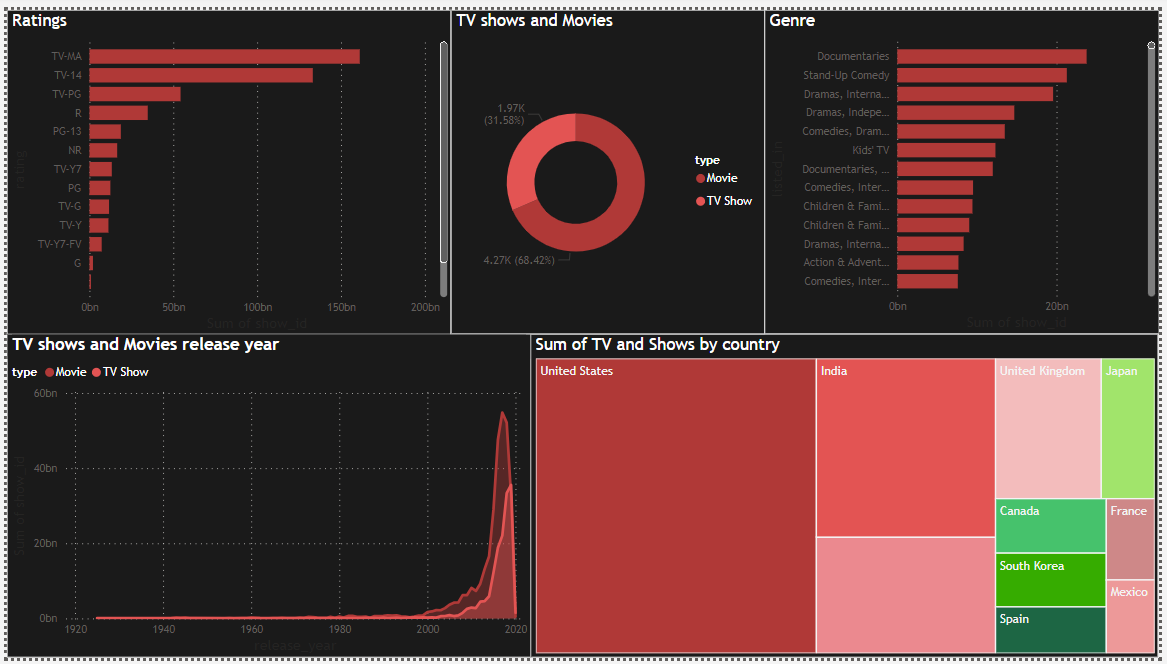

This screenshot's page, from the dashboard's own definition file:
{"tool":"powerbi","page":{"name":"Page 1","canvas":[1280,720],"ordinal":0},"visuals":[{"type":"barChart","title":"Ratings","fields":{"Y":["Sum(netflix_titles (1).show_id)"],"Category":["netflix_titles (1).rating"]},"box":[0,0,493.5,360.8],"z":0},{"type":"barChart","title":"Genre","fields":{"Y":["Sum(netflix_titles (1).show_id)"],"Category":["netflix_titles (1).listed_in"]},"box":[841.7,0,438.3,360],"z":1000},{"type":"areaChart","title":"TV shows and Movies release year","fields":{"Category":["netflix_titles (1).release_year"],"Y":["Sum(netflix_titles (1).show_id)"],"Series":["netflix_titles (1).type"]},"box":[0,360.8,582.5,359.2],"z":2000},{"type":"treemap","title":"Sum of TV and Shows by country","fields":{"Group":["netflix_titles (1).country"],"Values":["Sum(netflix_titles (1).show_id)"]},"box":[582.5,360.8,697.3,359.2],"z":3000},{"type":"donutChart","title":"TV shows and Movies","fields":{"Y":["Count(netflix_titles (1).show_id)"],"Category":["netflix_titles (1).type"]},"box":[493.3,0,348.3,360],"z":4000}]}

Visuals, with their boxes in screenshot pixels (x1, y1, x2, y2), scaled from the page's 1280x720 canvas onto the 1167x664 screenshot:
"Ratings" barChart: 0, 0, 450, 333
"Genre" barChart: 767, 0, 1166, 332
"TV shows and Movies release year" areaChart: 0, 333, 531, 663
"Sum of TV and Shows by country" treemap: 531, 333, 1166, 663
"TV shows and Movies" donutChart: 450, 0, 767, 332
